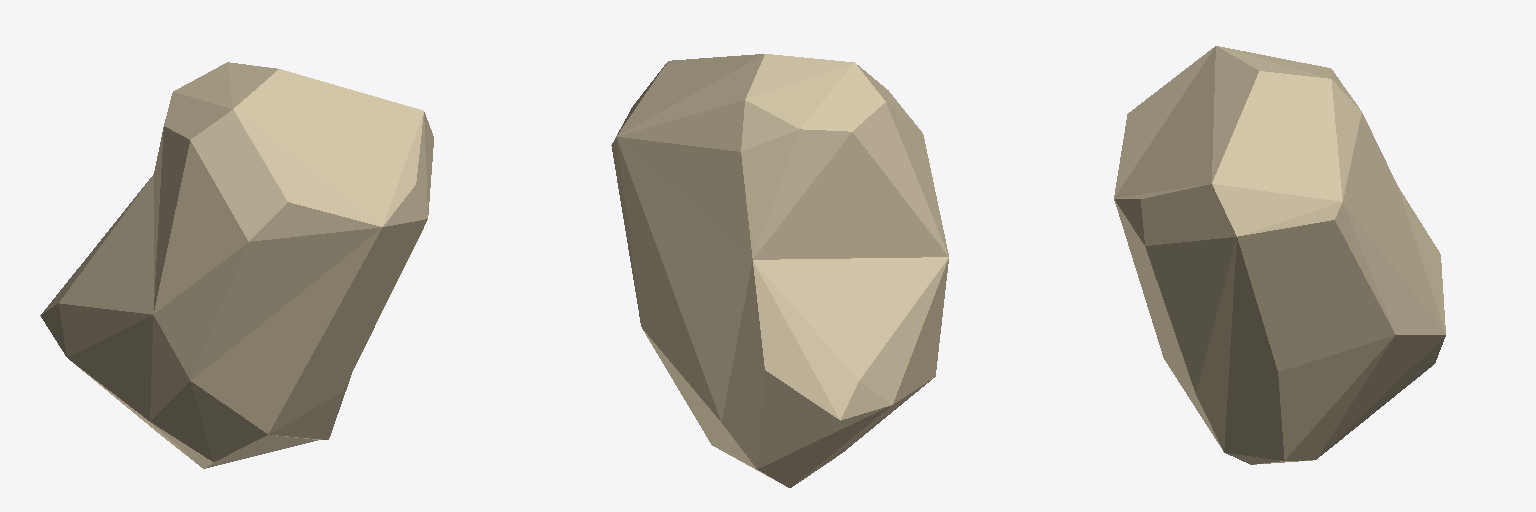
3 renders of one model, left to right at view 1: azimuth 30°, elevation 25°; view 2: azimuth 150°, elevation 25°; view 3: azimuth 270°, elevation 25°, orthographic.
Parts seen in each view (by area): view 1: 左もも; view 2: 左もも; view 3: 左もも.
Boxes of the visible parts, <box> form: 左もも: <box>40,62,433,468</box>; 左もも: <box>611,54,948,487</box>; 左もも: <box>1114,46,1445,464</box>.
Bounding box in the file's own units: 0.7012 × 0.8185 × 0.6435.
Materials: 1 (1 with a texture image).